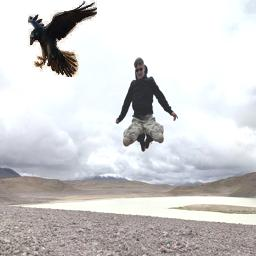Crow: (28, 0, 97, 77)
